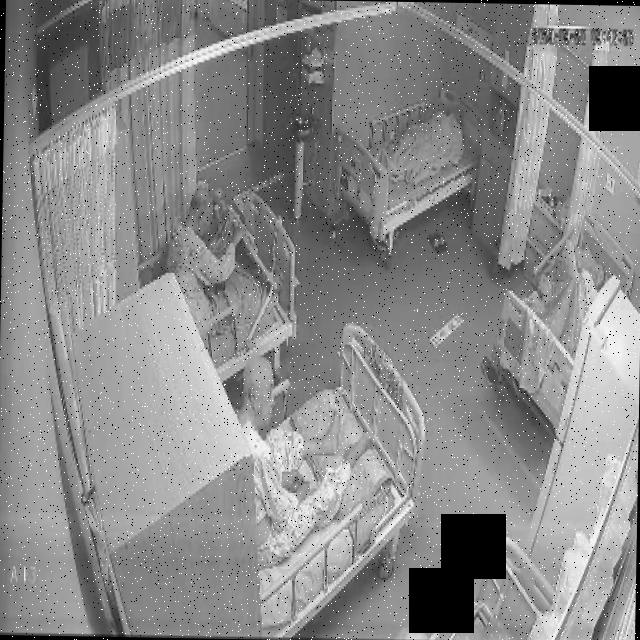bed: (227, 325, 427, 640), (491, 213, 634, 430), (160, 198, 296, 383), (337, 83, 482, 243)
patient: (235, 362, 372, 570), (162, 181, 284, 340)
sit: (236, 360, 374, 569), (162, 181, 284, 337)
